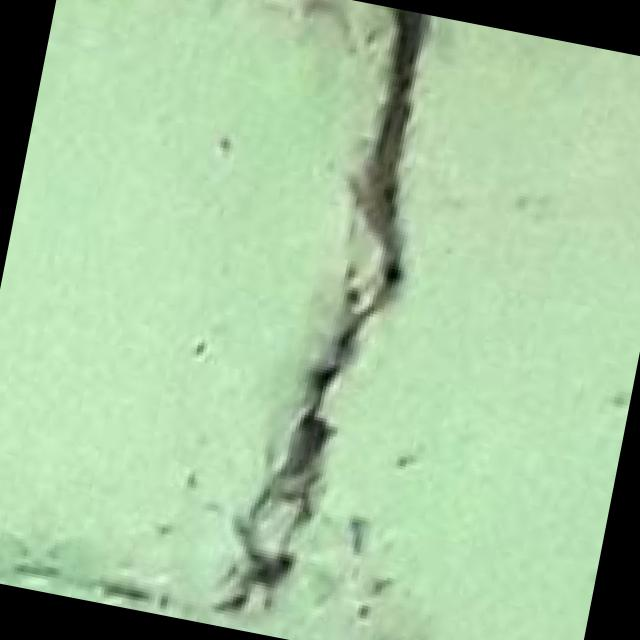crack: (193, 0, 497, 625)
